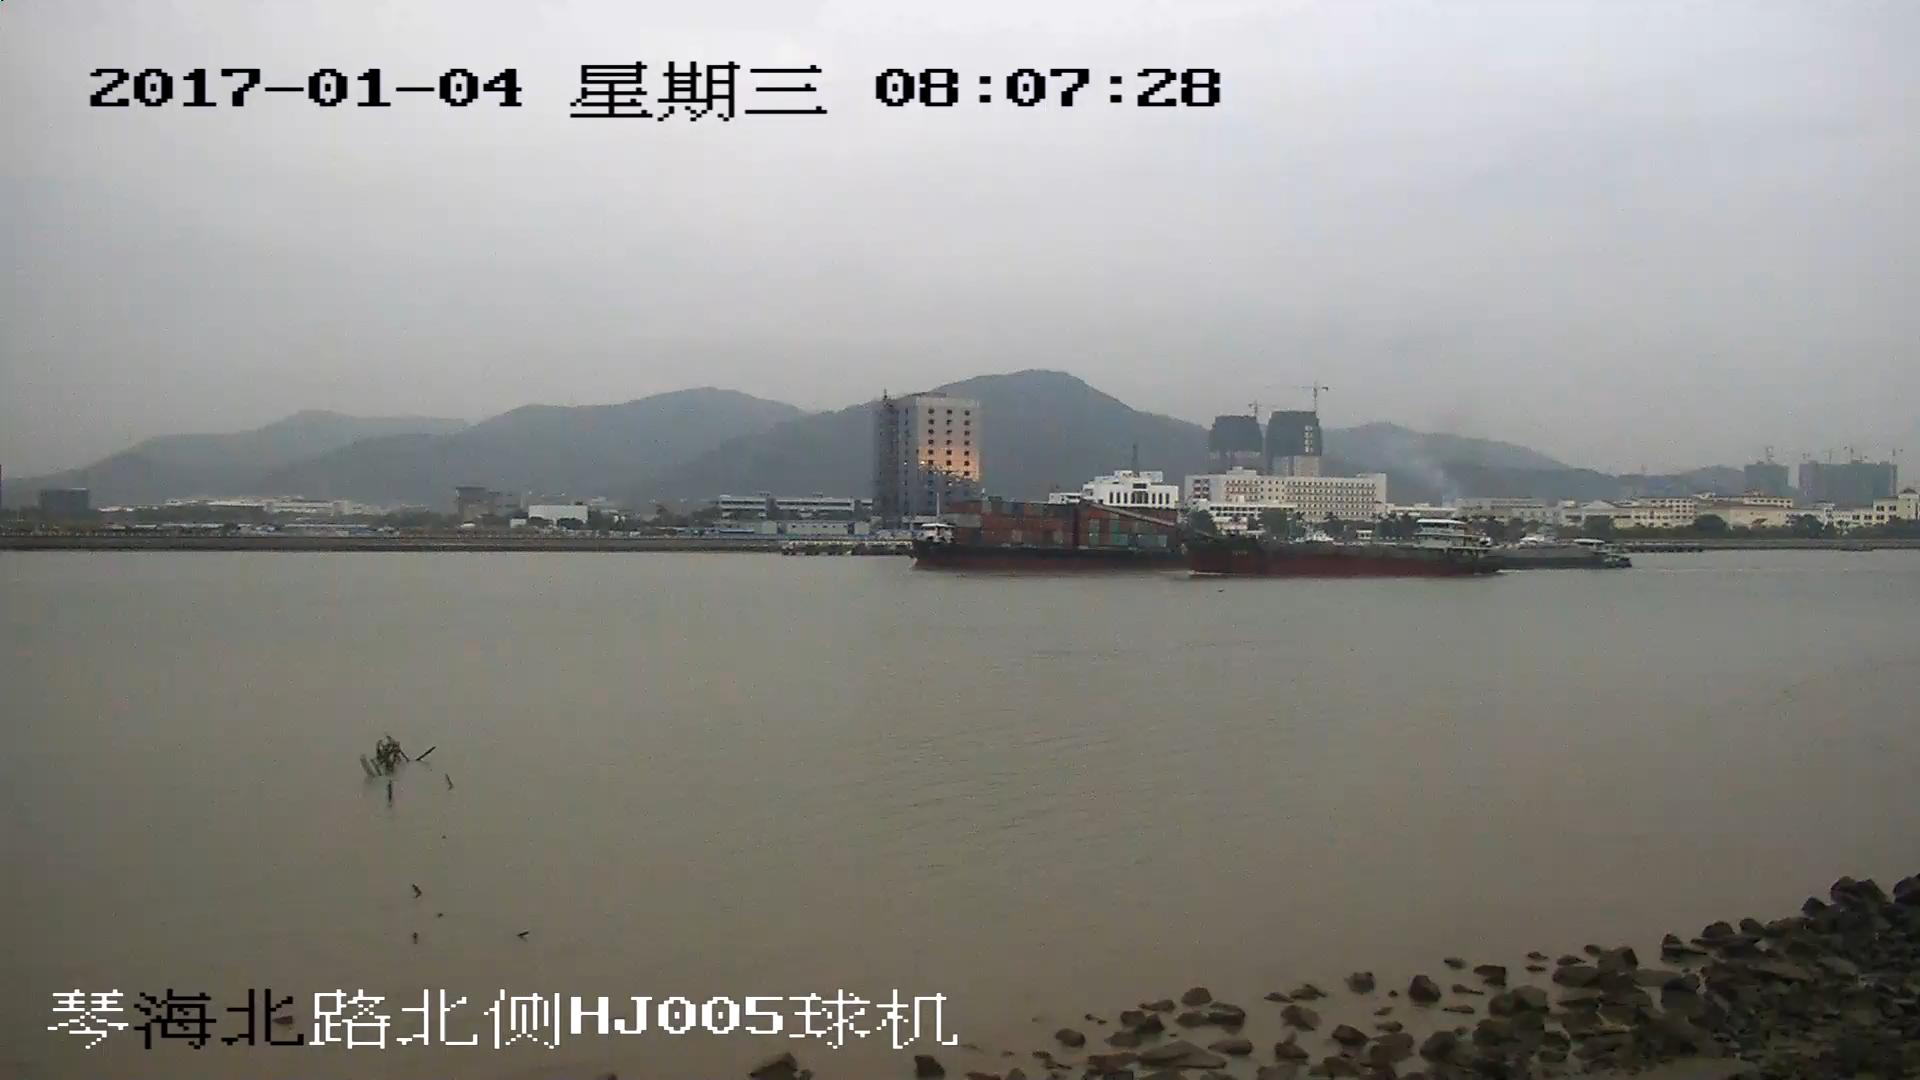bulk cargo carrier: (1091, 503, 1486, 575)
container ship: (919, 498, 1177, 561)
general cargo ship: (1475, 543, 1628, 568)
